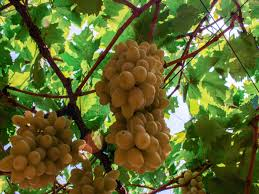grapes: (94, 40, 174, 171), (3, 108, 80, 186), (68, 156, 116, 194)
